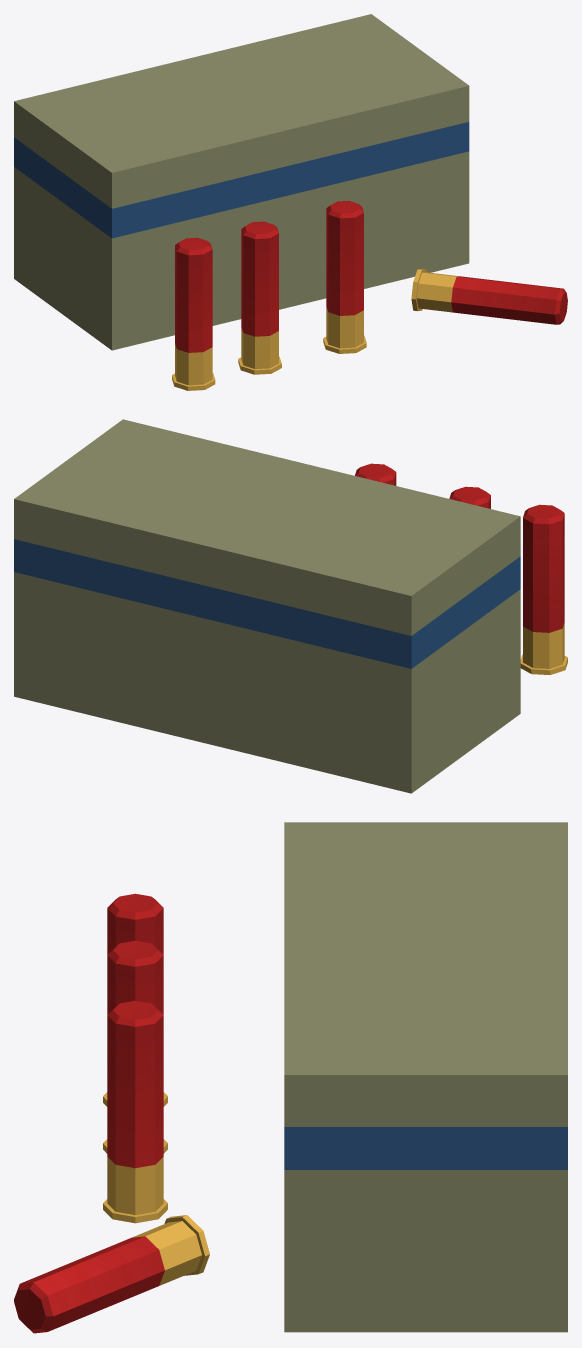
Rendered from scene_sCad0FOrHv.glb.
The picture shows the model from 3 angles, top to bottom: view 1: azimuth 30°, elevation 25°; view 2: azimuth 150°, elevation 25°; view 3: azimuth 270°, elevation 25°; orthographic projection. The views are drawn at different scales.
Visible parts, largest first — view 1: Ammo_gun; view 2: Ammo_gun; view 3: Ammo_gun.
Part boxes in pixels (left/top/right/bottom): Ammo_gun: left=14, top=14, right=567, bottom=390; Ammo_gun: left=14, top=419, right=567, bottom=793; Ammo_gun: left=14, top=822, right=567, bottom=1333.
Bounding box in the file's own units: 0.2806 × 0.1284 × 0.2487.
1 material, 1 textured.
